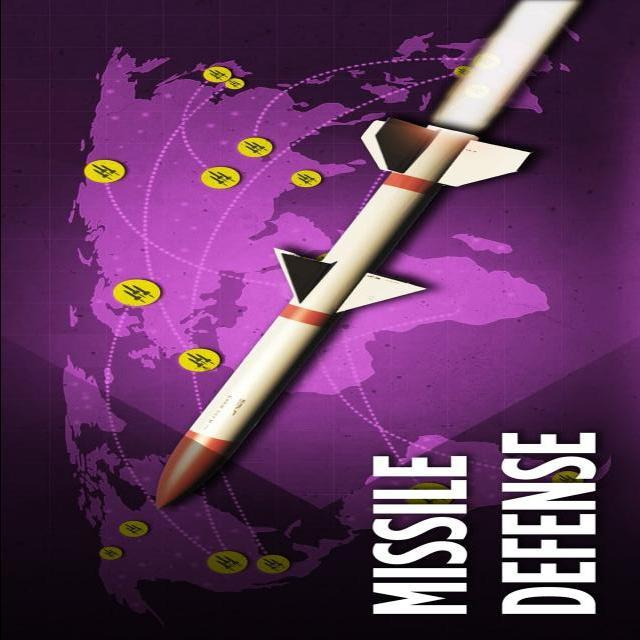missile: (137, 120, 540, 511)
